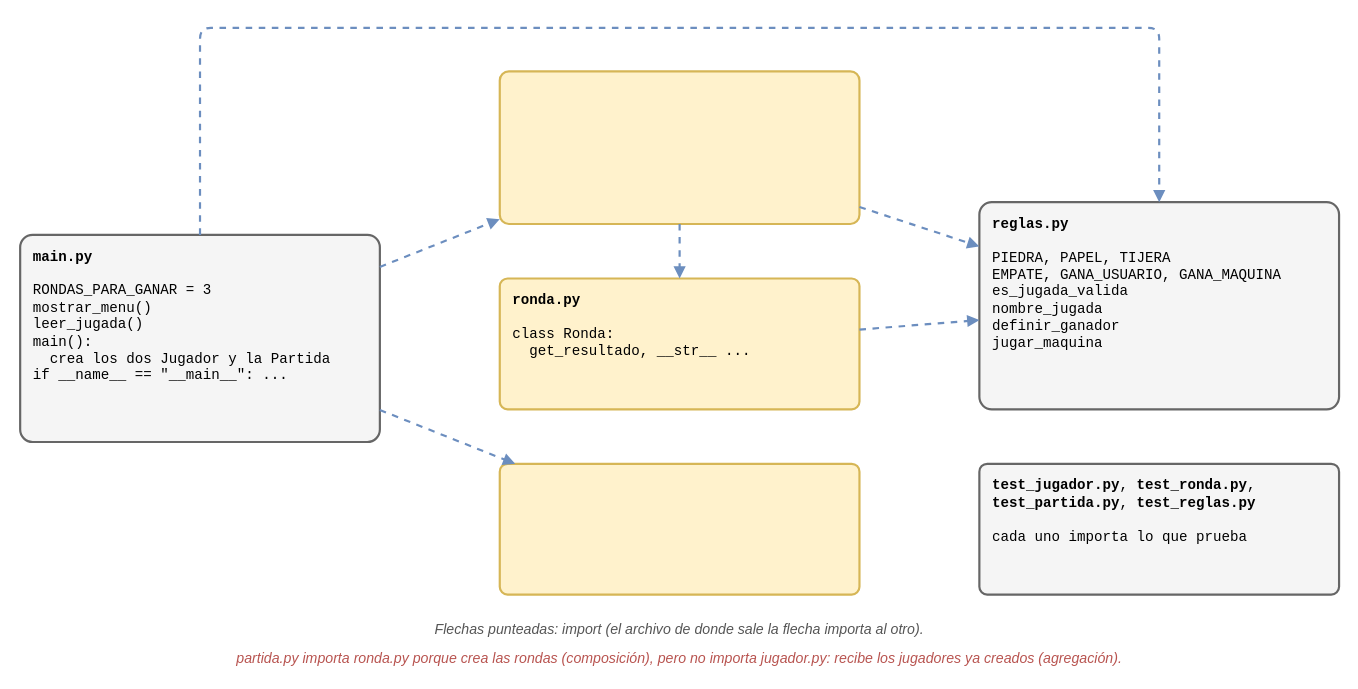
Some shapes in this 1358 by 689 pixel diagram are drawn without their labels. The shapes that lost their labels are listed below. From the top down, each one's centre as x and y in pixels, then its label:
At (679,147): "partida.py class Partida: jugar_ronda, terminada, get_ganador, __str__ ...".
At (679,528): "jugador.py class Jugador: sumar_punto, __str__ ...".
